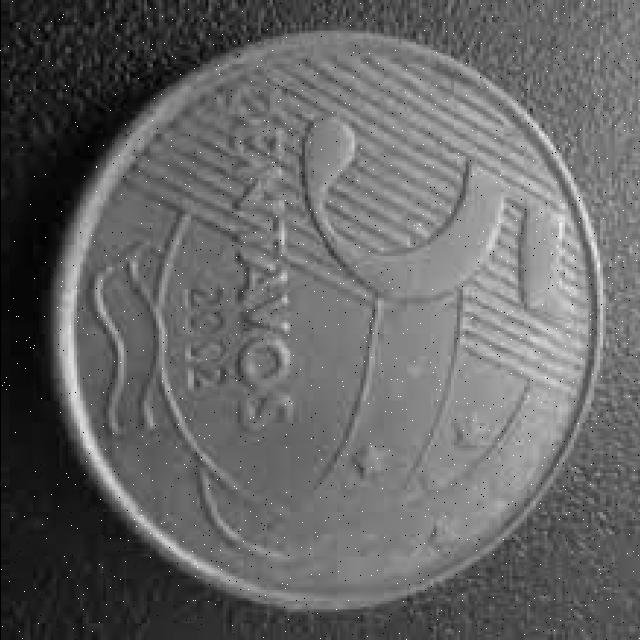5 cent: (51, 34, 604, 612)
